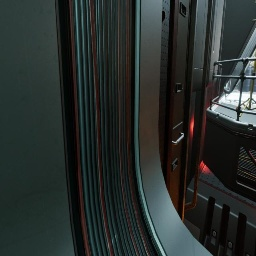SafetySwitchPanel ,: (162, 11, 165, 23), (234, 82, 237, 89)
